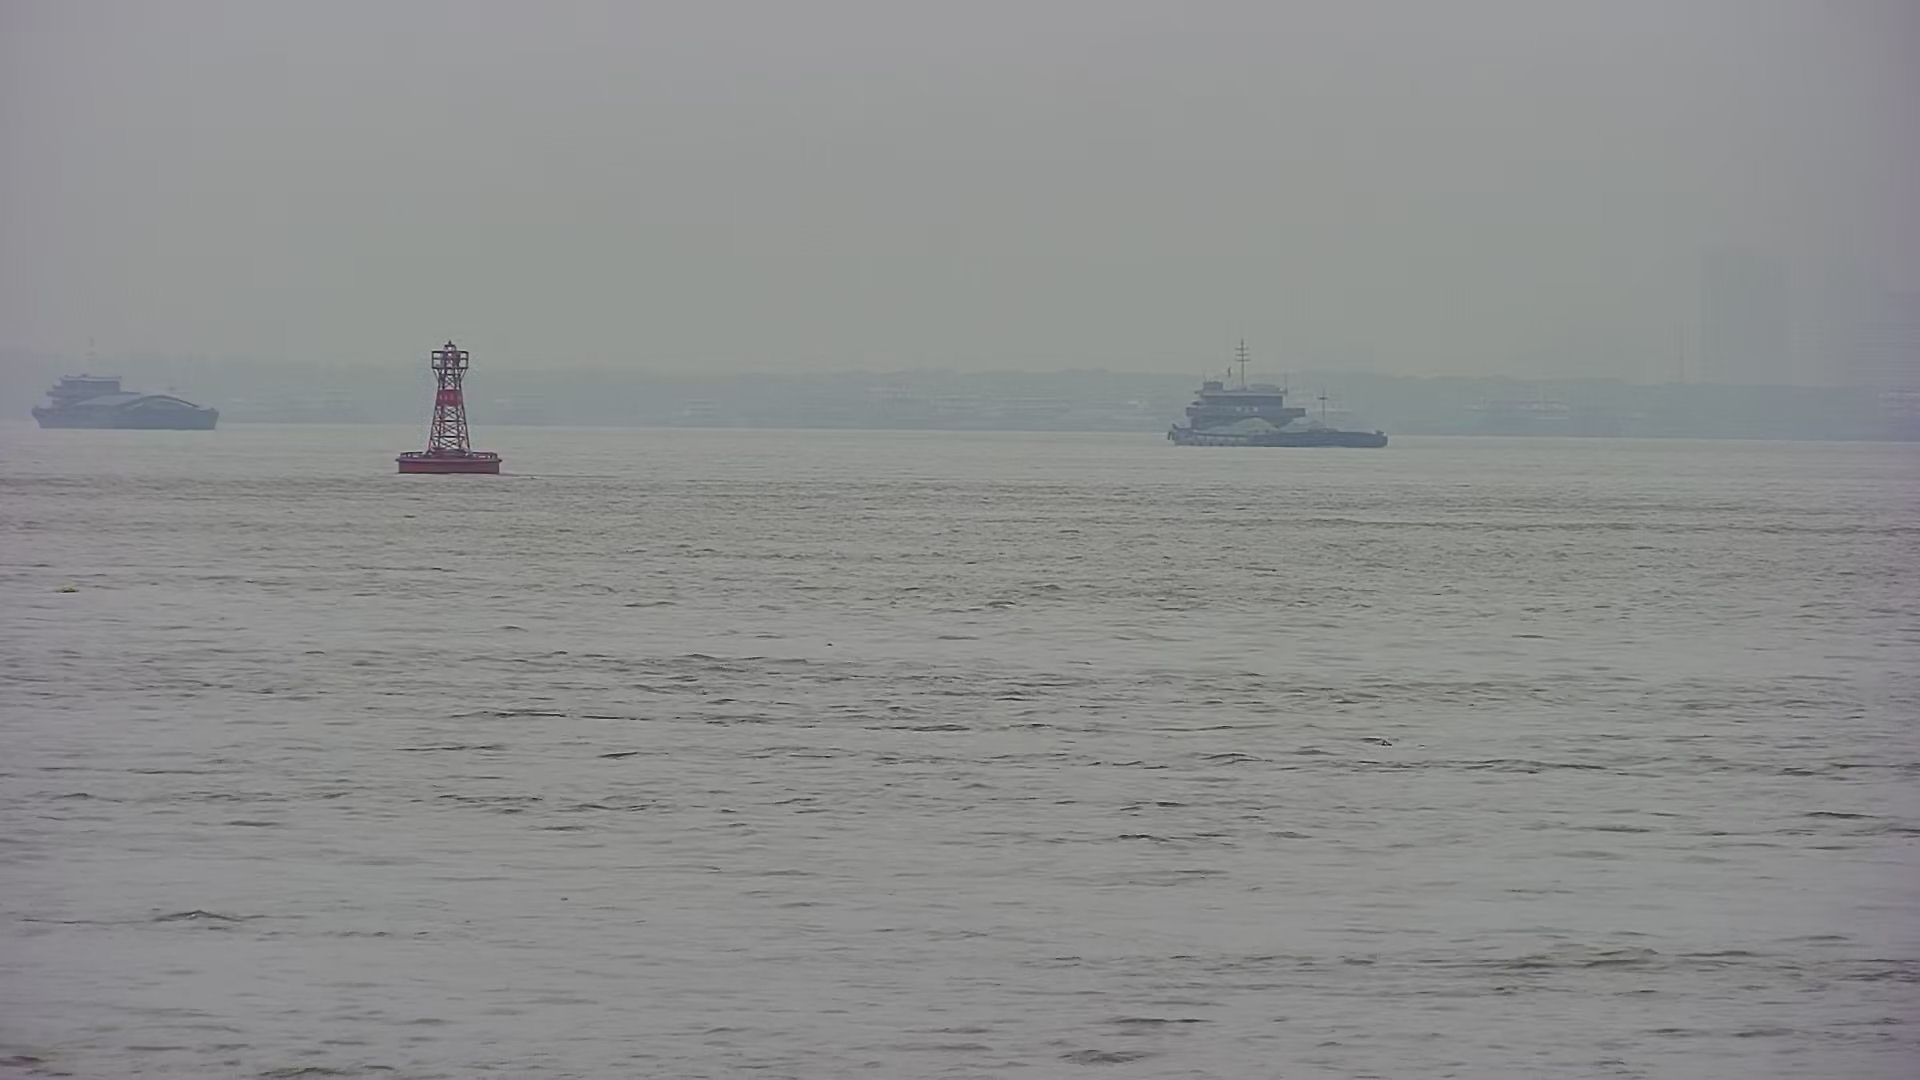buoy: (381, 334, 522, 484)
ship: (1150, 328, 1400, 454), (18, 355, 233, 436)
